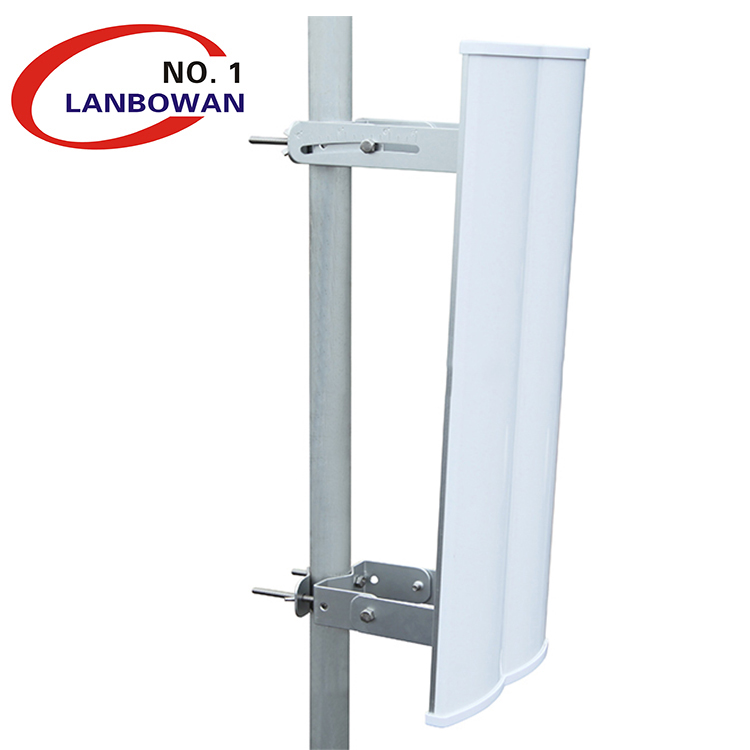sa: (418, 30, 585, 730)
